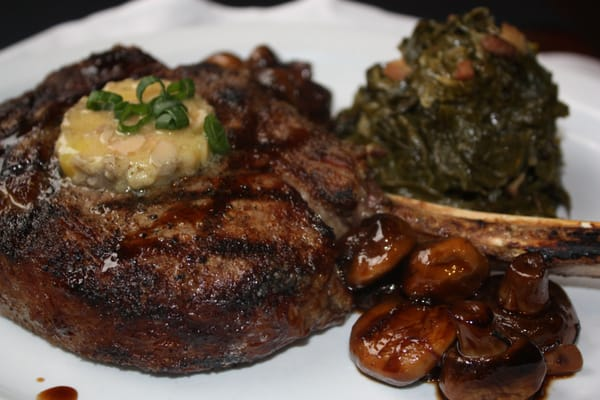curry: (332, 7, 575, 216)
